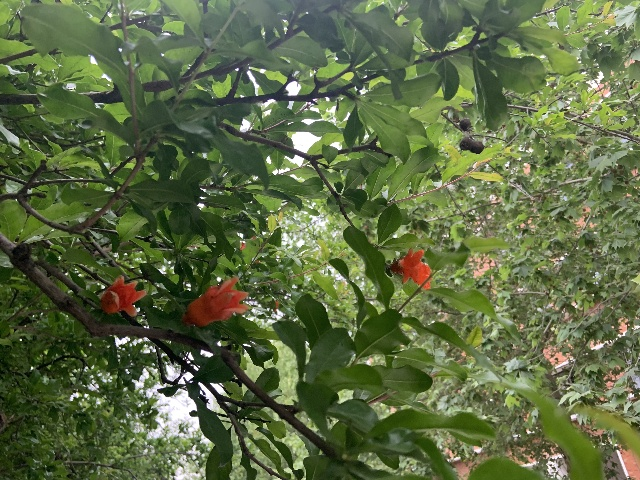flower: (182, 276, 250, 327), (99, 274, 146, 317), (390, 247, 432, 289)
